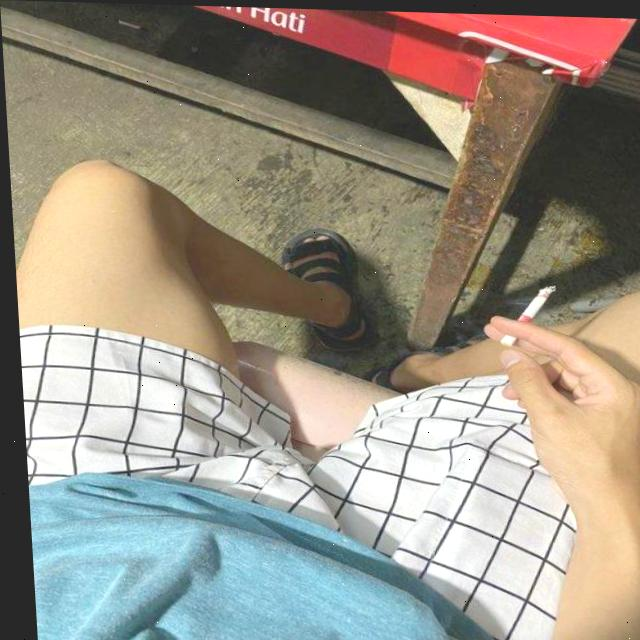cigarette: (497, 284, 555, 344)
